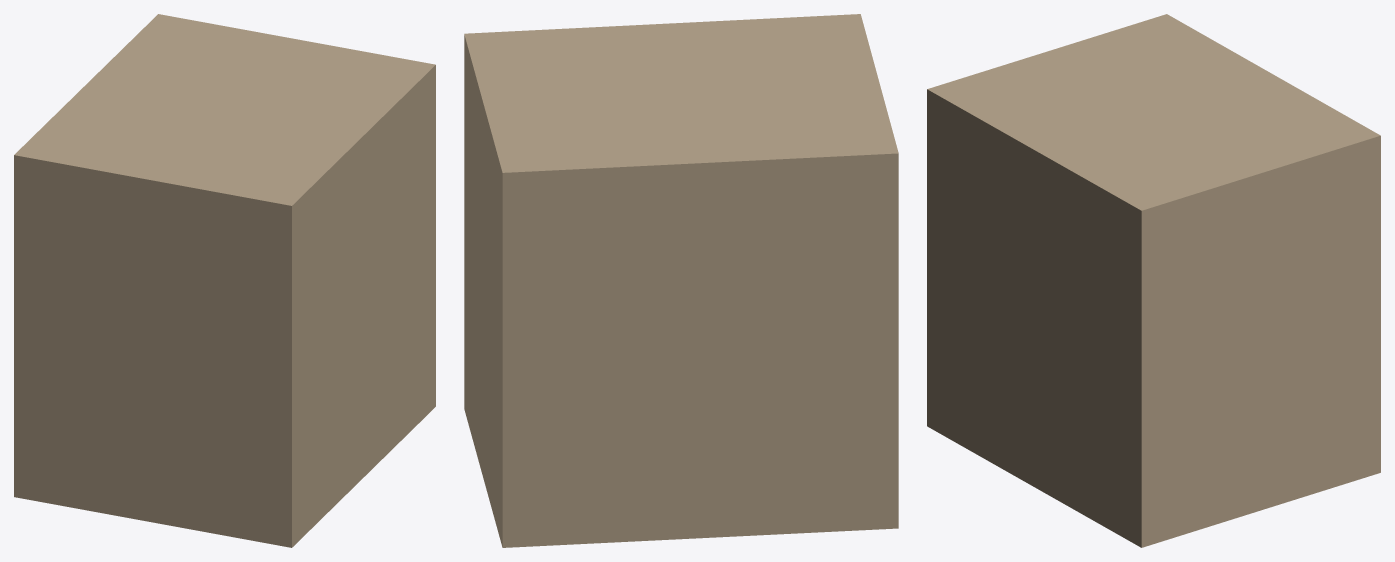
The model's file is bld_106297754.dae.
The picture shows the model from 3 angles, left to right: view 1: azimuth 30°, elevation 25°; view 2: azimuth 150°, elevation 25°; view 3: azimuth 270°, elevation 25°; orthographic projection. The views are drawn at different scales.
Parts seen in each view (by area): view 1: bld_106297754; view 2: bld_106297754; view 3: bld_106297754.
Part boxes in pixels (left/top/right/bottom): bld_106297754: left=14, top=14, right=435, bottom=547; bld_106297754: left=464, top=14, right=898, bottom=547; bld_106297754: left=927, top=14, right=1380, bottom=547.
Bounding box in the file's own units: 10.01 × 9.76 × 8.
